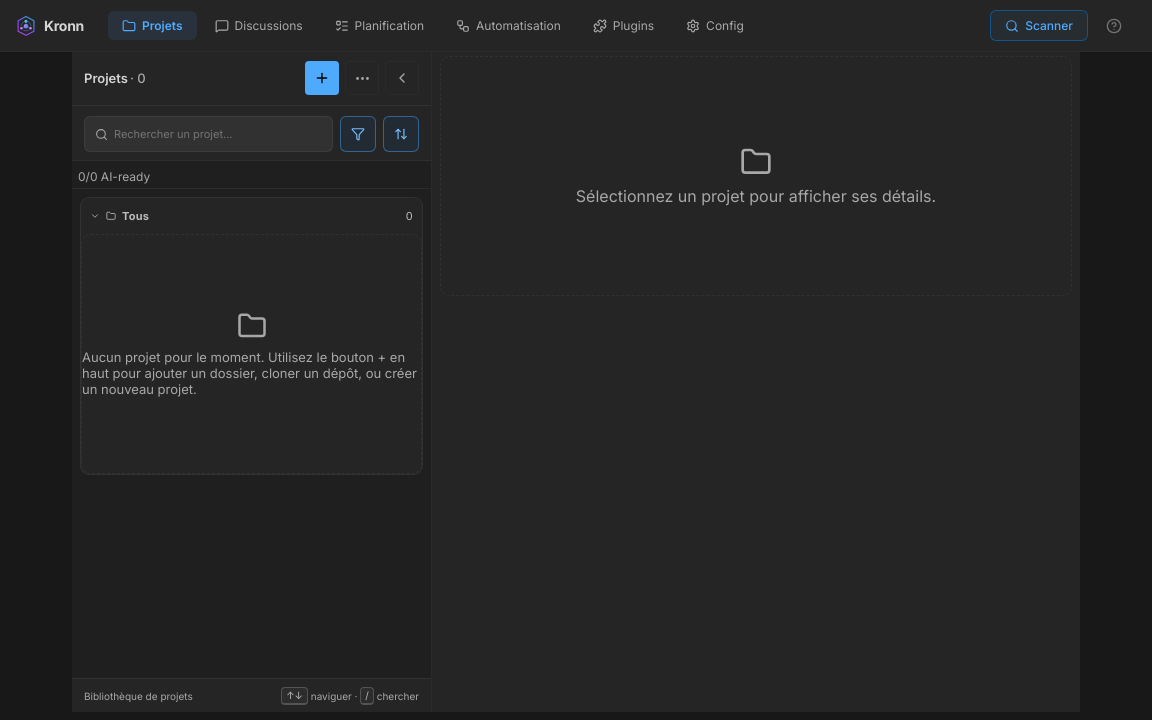
Test: Dashboard — bootstrap MCP auto-pick › re-runs the auto-pick when the modal is closed and reopened
Click the button named "Ajouter un projet" at (322, 78), box x1=305 y1=61 x2=339 y2=95
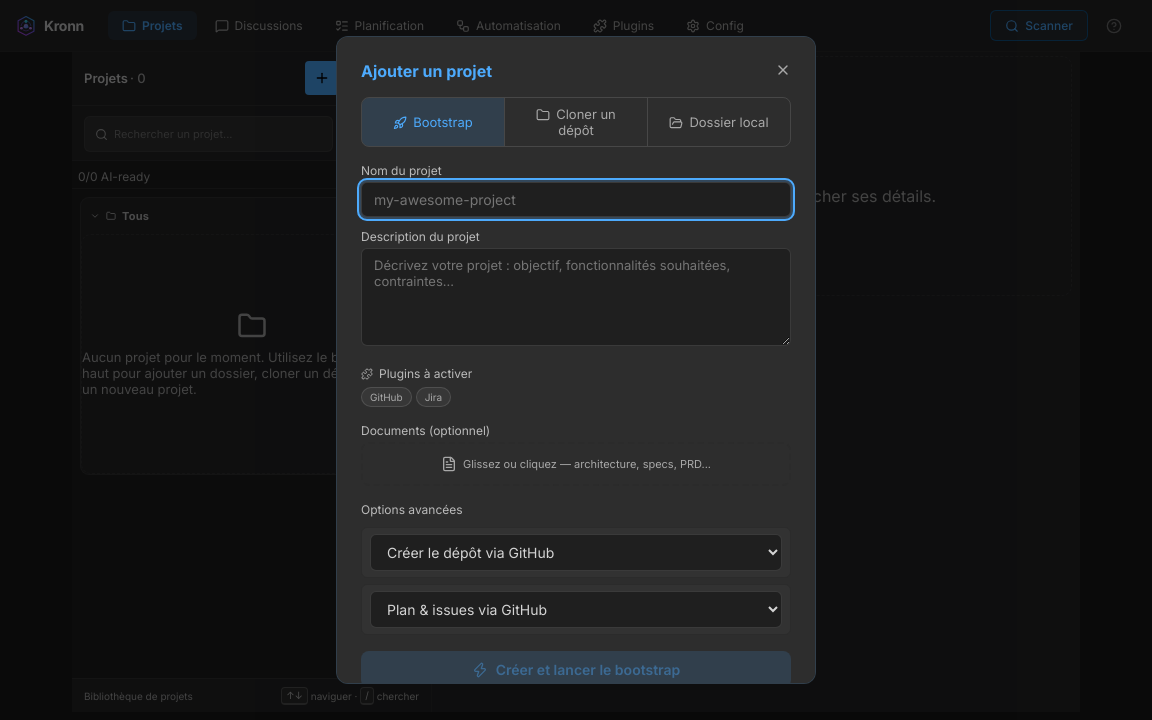
Now the 1st dropdown is shown
Select "Ne pas créer de dépôt Git" in the 1st dropdown at (576, 553), box x1=370 y1=534 x2=782 y2=572
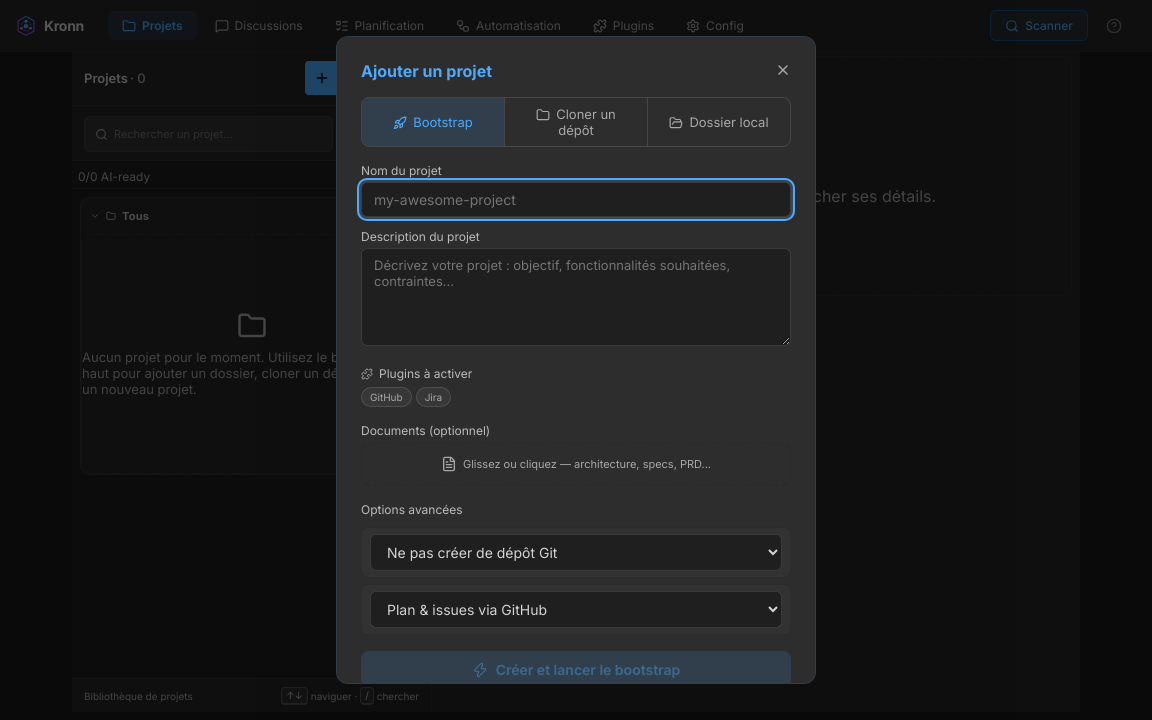
Click the button with class "dash-modal-close" at (783, 71), box x1=775 y1=62 x2=791 y2=80
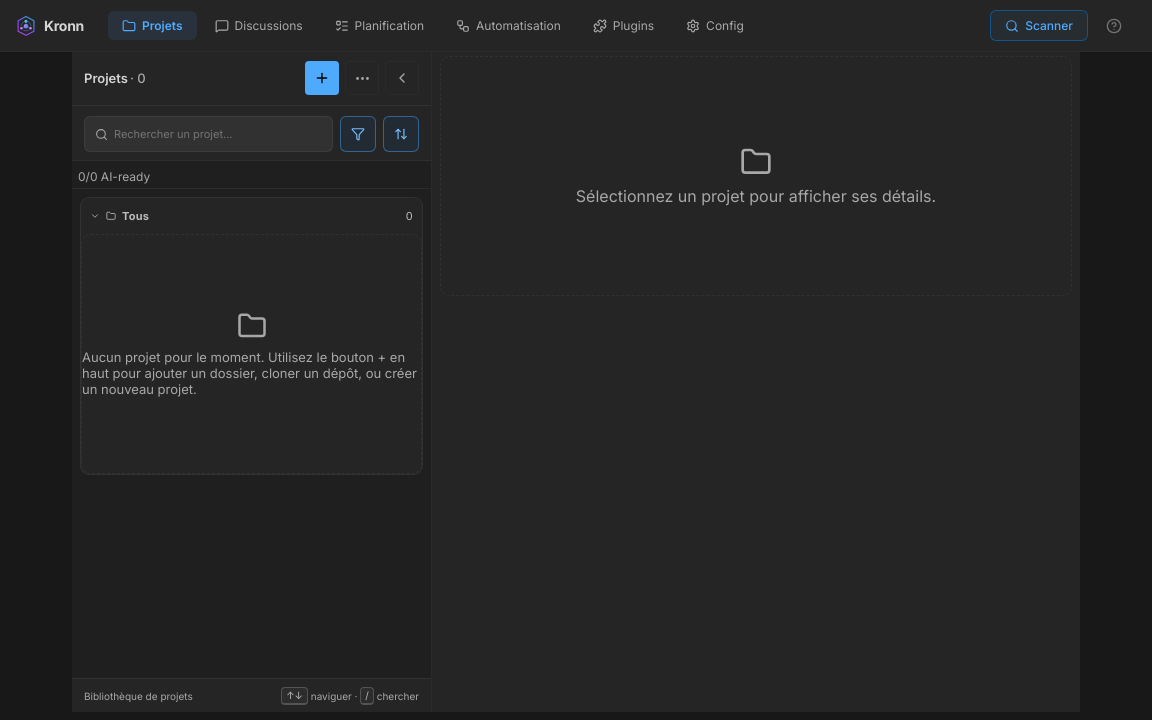
Click the button named "Ajouter un projet" at (322, 78), box x1=305 y1=61 x2=339 y2=95
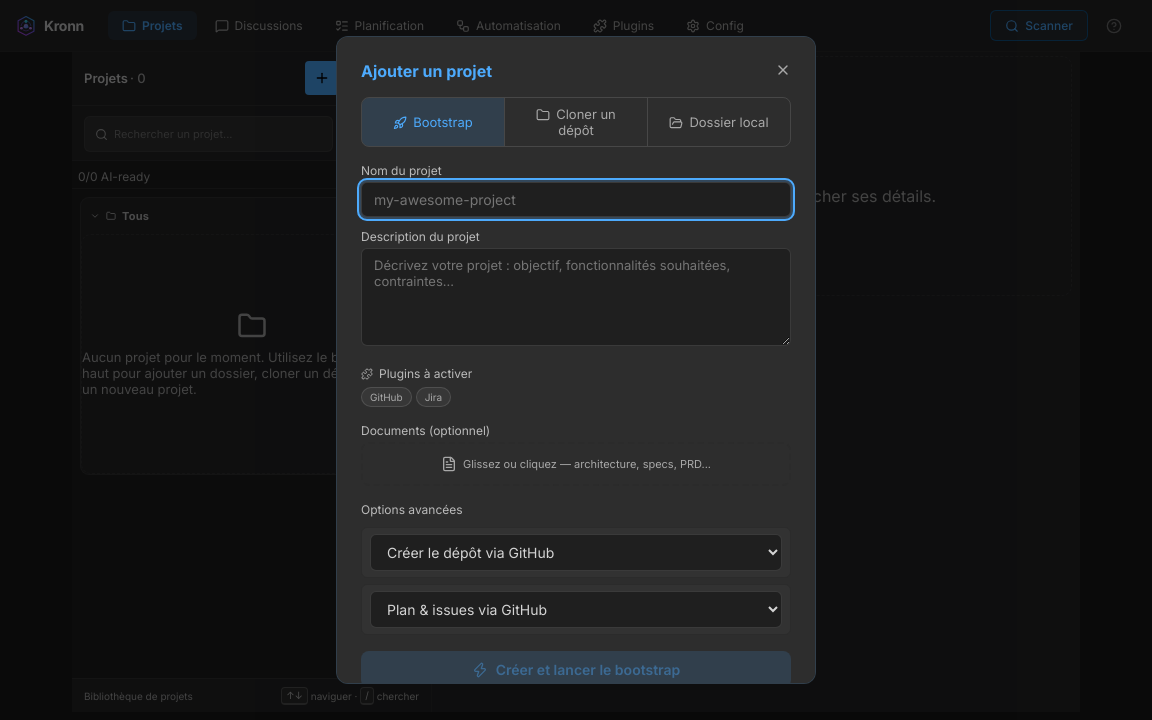
Now the 1st dropdown is shown, box x1=370 y1=534 x2=782 y2=572
